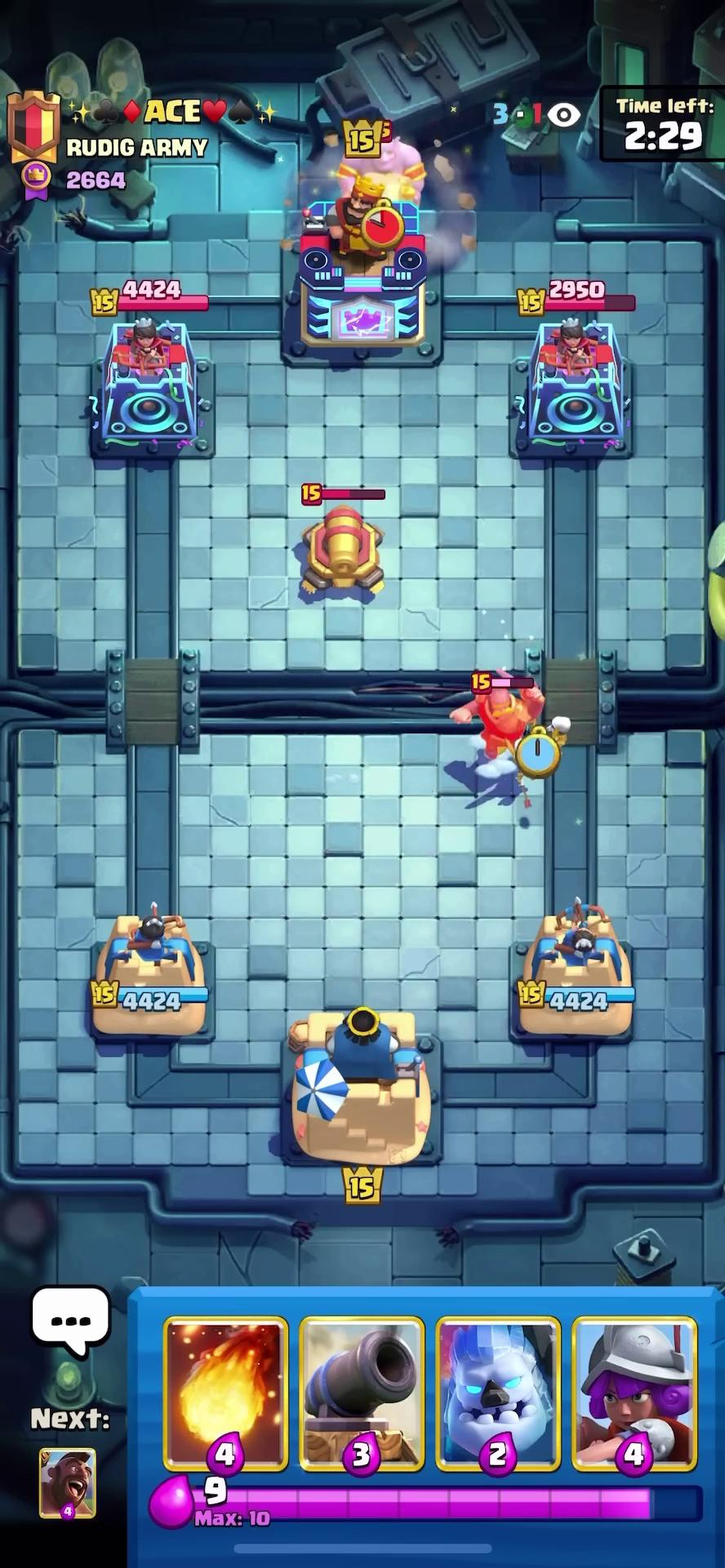skeletons: (535, 710, 588, 753)
